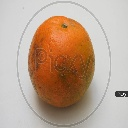orange: (29, 15, 97, 110)
